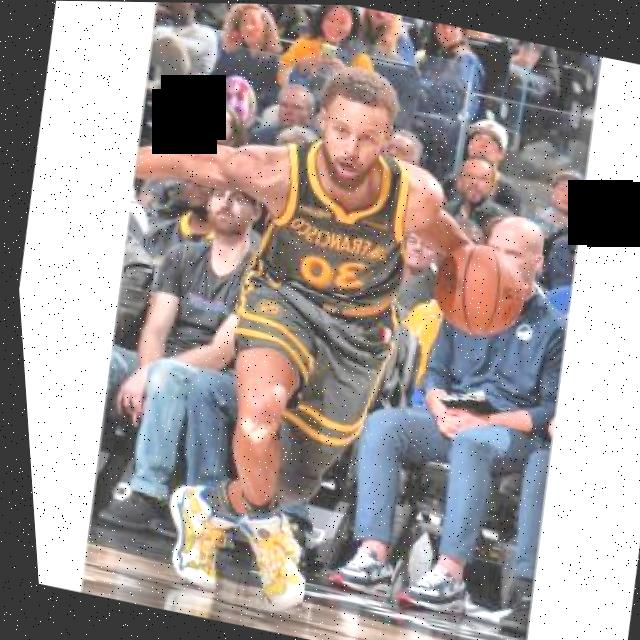shoe: (218, 501, 312, 614), (147, 478, 237, 595), (388, 553, 466, 620), (318, 535, 393, 597)
